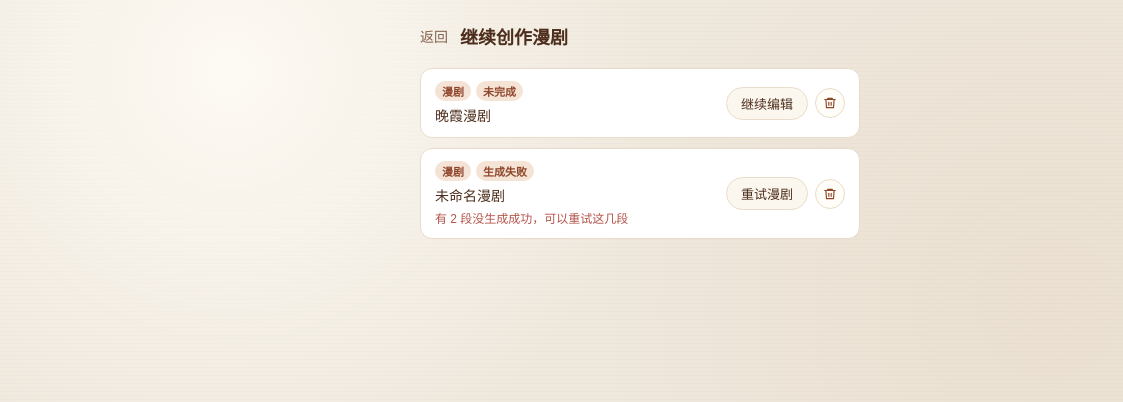
Test: UnfinishedWorks › a failed motion retry keeps the page and row with safe feedback
Click the button "重试漫剧": (767, 194) [726,177,808,210]
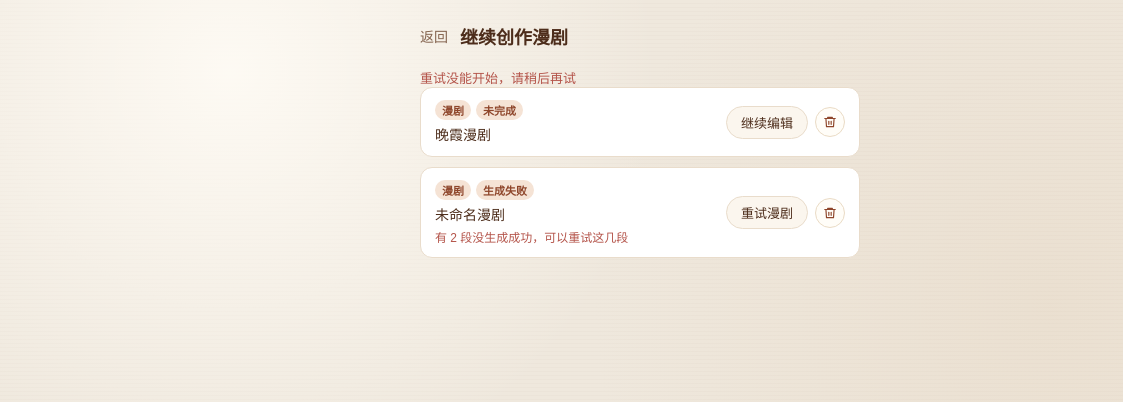
Expected: the button "重试漫剧" is shown, [726,196,808,229]
Expected: the text "重试没能开始，请稍后再试" is shown, [420,71,576,86]
